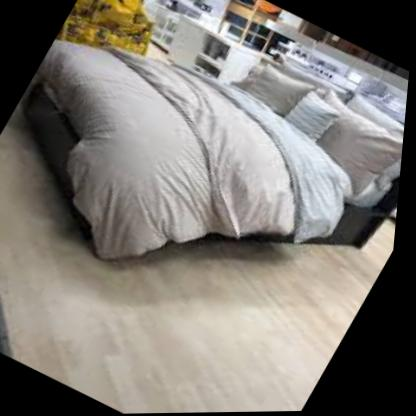Bed: (0, 0, 416, 342)
